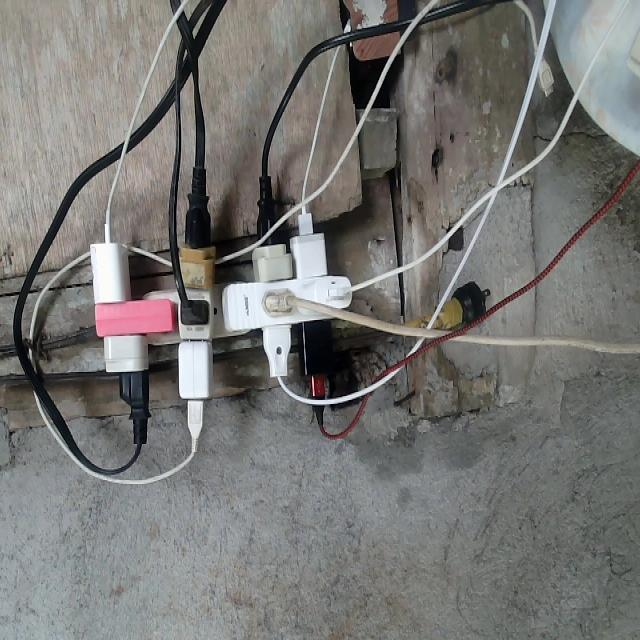-: (84, 196, 352, 404)
